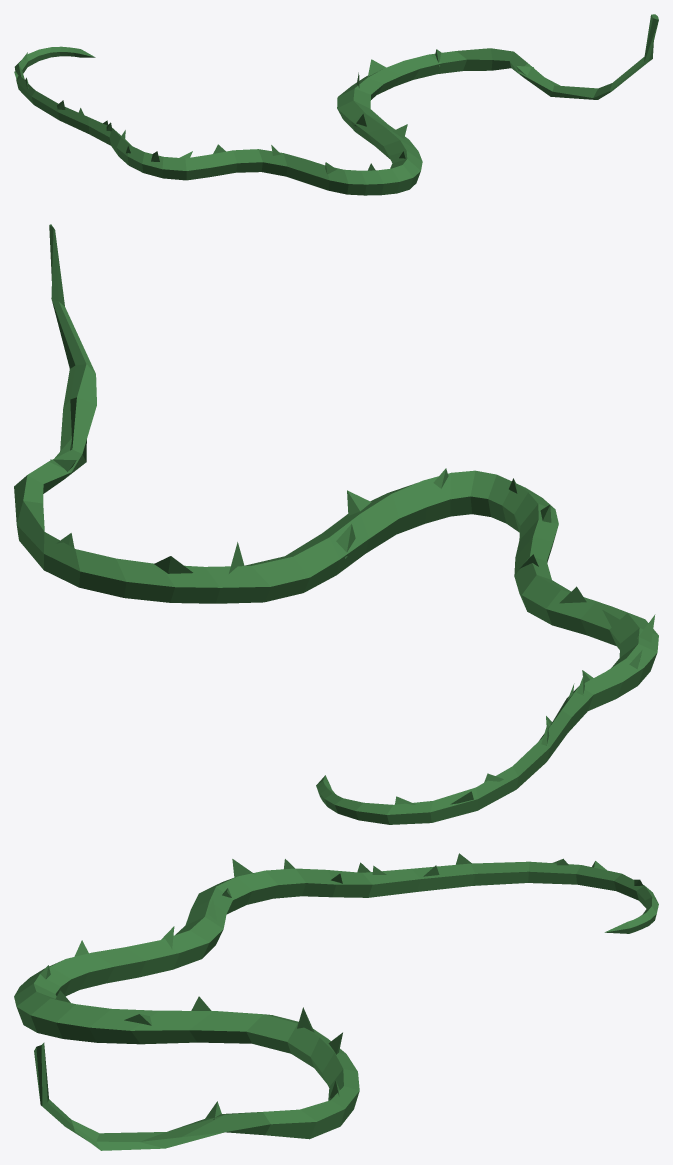
Rendered from vine 8.fbx.
The picture shows the model from 3 angles, top to bottom: view 1: azimuth 30°, elevation 25°; view 2: azimuth 150°, elevation 25°; view 3: azimuth 270°, elevation 25°; orthographic projection. The views are drawn at different scales.
Visible parts, largest first — view 1: polySurface224; view 2: polySurface224; view 3: polySurface224.
Part boxes in pixels (left/top/right/bottom): polySurface224: left=14, top=14, right=658, bottom=195; polySurface224: left=14, top=224, right=658, bottom=824; polySurface224: left=14, top=853, right=658, bottom=1150.
Bounding box in the file's own units: 19.7 × 4.57 × 16.95.
